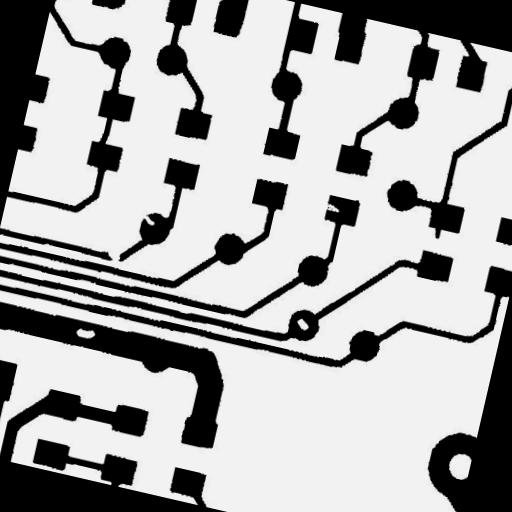mousebite: (310, 190, 350, 222), (134, 206, 164, 234)
open: (97, 241, 130, 272)
pin-hole: (66, 318, 104, 348), (287, 309, 319, 340)
short: (88, 104, 123, 158)
spur: (424, 214, 450, 248)
